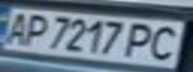1: (81, 17, 109, 55)
2: (63, 16, 87, 53)
7: (100, 18, 130, 56), (42, 13, 72, 51)
A: (0, 10, 33, 46)
C: (142, 22, 190, 61)
P: (121, 20, 166, 60), (18, 11, 51, 47)
